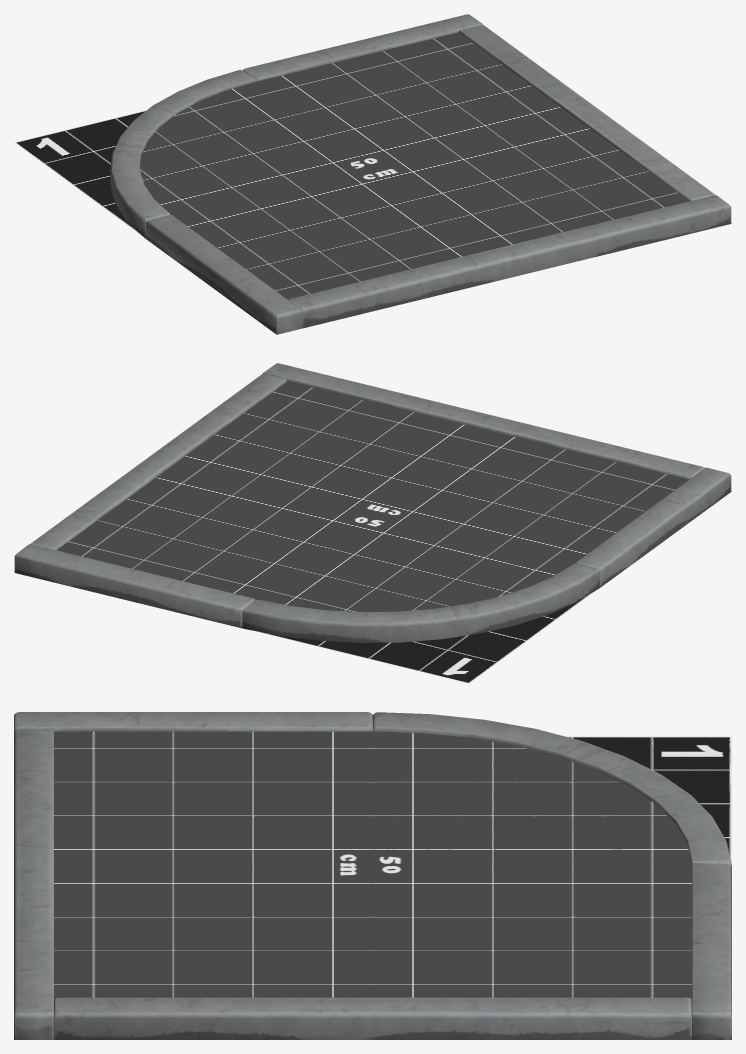
Rendered from M02SideWalk04_6.FBX.
3 renders of one model, top to bottom at view 1: azimuth 30°, elevation 25°; view 2: azimuth 150°, elevation 25°; view 3: azimuth 270°, elevation 25°, orthographic. The views are drawn at different scales.
Parts seen in each view (by area): view 1: M02SideWalk04_6; view 2: M02SideWalk04_6; view 3: M02SideWalk04_6.
Part boxes in pixels (x1=…): M02SideWalk04_6: x1=14, y1=14, x2=731, y2=334; M02SideWalk04_6: x1=14, y1=363, x2=731, y2=683; M02SideWalk04_6: x1=14, y1=712, x2=731, y2=1039.
Size of what is drawn, in the model's own units: 4.5 by 0.1783 by 4.5.
